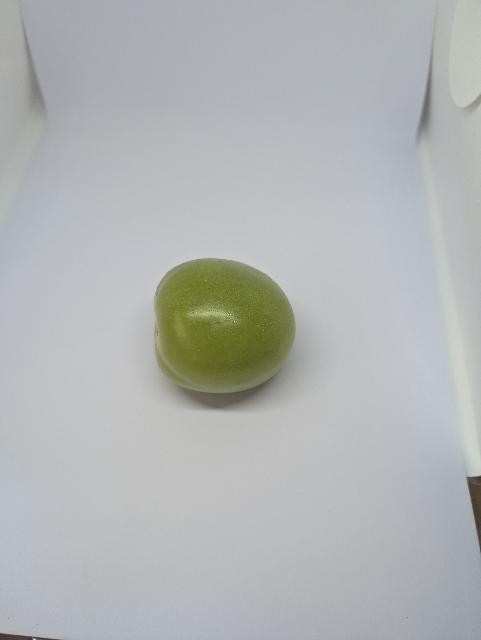green: (151, 256, 298, 397)
